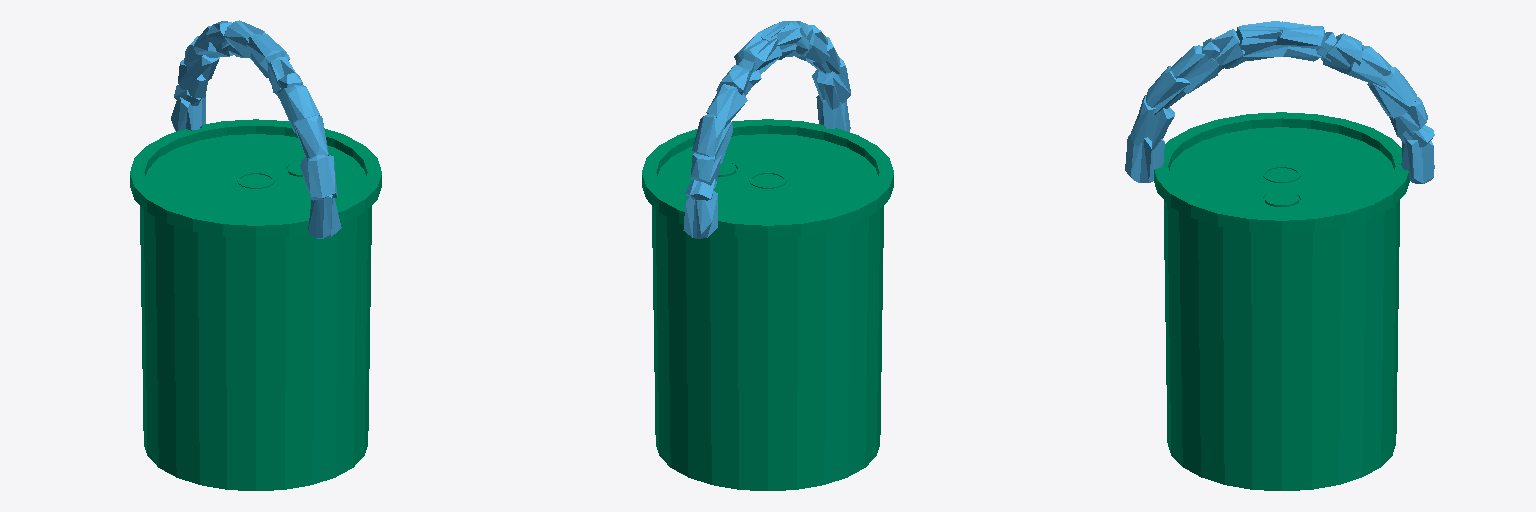
URDF robot description (partnet_514006346ba5ecca11ff520b92ac7b90):
<?xml version="1.0" ?><robot name="partnet_514006346ba5ecca11ff520b92ac7b90">
	<link name="base"/>
	<link name="link_0">
		<visual>
			<origin xyz="0 -0.479723810553553 0.009930455033136259"/>
			<geometry>
				<mesh filename="new_objs/100446_link_0_10.obj"/>
			</geometry>
		</visual>
	<visual>
			<origin xyz="0 -0.479723810553553 0.009930455033136259"/>
			<geometry>
				<mesh filename="new_objs/100446_link_0_9.obj"/>
			</geometry>
		</visual>
	<visual>
			<origin xyz="0 -0.479723810553553 0.009930455033136259"/>
			<geometry>
				<mesh filename="new_objs/100446_link_0_4.obj"/>
			</geometry>
		</visual>
	<visual>
			<origin xyz="0 -0.479723810553553 0.009930455033136259"/>
			<geometry>
				<mesh filename="new_objs/100446_link_0_11.obj"/>
			</geometry>
		</visual>
	<visual>
			<origin xyz="0 -0.479723810553553 0.009930455033136259"/>
			<geometry>
				<mesh filename="new_objs/100446_link_0_14.obj"/>
			</geometry>
		</visual>
	<visual>
			<origin xyz="0 -0.479723810553553 0.009930455033136259"/>
			<geometry>
				<mesh filename="new_objs/100446_link_0_13.obj"/>
			</geometry>
		</visual>
	<visual>
			<origin xyz="0 -0.479723810553553 0.009930455033136259"/>
			<geometry>
				<mesh filename="new_objs/100446_link_0_2.obj"/>
			</geometry>
		</visual>
	<visual>
			<origin xyz="0 -0.479723810553553 0.009930455033136259"/>
			<geometry>
				<mesh filename="new_objs/100446_link_0_3.obj"/>
			</geometry>
		</visual>
	<visual>
			<origin xyz="0 -0.479723810553553 0.009930455033136259"/>
			<geometry>
				<mesh filename="new_objs/100446_link_0_8.obj"/>
			</geometry>
		</visual>
	<visual>
			<origin xyz="0 -0.479723810553553 0.009930455033136259"/>
			<geometry>
				<mesh filename="new_objs/100446_link_0_1.obj"/>
			</geometry>
		</visual>
	<visual>
			<origin xyz="0 -0.479723810553553 0.009930455033136259"/>
			<geometry>
				<mesh filename="new_objs/100446_link_0_5.obj"/>
			</geometry>
		</visual>
	<visual>
			<origin xyz="0 -0.479723810553553 0.009930455033136259"/>
			<geometry>
				<mesh filename="new_objs/100446_link_0_6.obj"/>
			</geometry>
		</visual>
	<visual>
			<origin xyz="0 -0.479723810553553 0.009930455033136259"/>
			<geometry>
				<mesh filename="new_objs/100446_link_0_12.obj"/>
			</geometry>
		</visual>
	<visual>
			<origin xyz="0 -0.479723810553553 0.009930455033136259"/>
			<geometry>
				<mesh filename="new_objs/100446_link_0_0.obj"/>
			</geometry>
		</visual>
	<visual>
			<origin xyz="0 -0.479723810553553 0.009930455033136259"/>
			<geometry>
				<mesh filename="new_objs/100446_link_0_7.obj"/>
			</geometry>
		</visual>
	
		<collision>
			<origin xyz="0 -0.479723810553553 0.009930455033136259"/>
			<geometry>
				<mesh filename="new_objs/100446_link_0_10.obj"/>
			</geometry>
		</collision><collision>
			<origin xyz="0 -0.479723810553553 0.009930455033136259"/>
			<geometry>
				<mesh filename="new_objs/100446_link_0_9.obj"/>
			</geometry>
		</collision><collision>
			<origin xyz="0 -0.479723810553553 0.009930455033136259"/>
			<geometry>
				<mesh filename="new_objs/100446_link_0_4.obj"/>
			</geometry>
		</collision><collision>
			<origin xyz="0 -0.479723810553553 0.009930455033136259"/>
			<geometry>
				<mesh filename="new_objs/100446_link_0_11.obj"/>
			</geometry>
		</collision><collision>
			<origin xyz="0 -0.479723810553553 0.009930455033136259"/>
			<geometry>
				<mesh filename="new_objs/100446_link_0_14.obj"/>
			</geometry>
		</collision><collision>
			<origin xyz="0 -0.479723810553553 0.009930455033136259"/>
			<geometry>
				<mesh filename="new_objs/100446_link_0_13.obj"/>
			</geometry>
		</collision><collision>
			<origin xyz="0 -0.479723810553553 0.009930455033136259"/>
			<geometry>
				<mesh filename="new_objs/100446_link_0_2.obj"/>
			</geometry>
		</collision><collision>
			<origin xyz="0 -0.479723810553553 0.009930455033136259"/>
			<geometry>
				<mesh filename="new_objs/100446_link_0_3.obj"/>
			</geometry>
		</collision><collision>
			<origin xyz="0 -0.479723810553553 0.009930455033136259"/>
			<geometry>
				<mesh filename="new_objs/100446_link_0_8.obj"/>
			</geometry>
		</collision><collision>
			<origin xyz="0 -0.479723810553553 0.009930455033136259"/>
			<geometry>
				<mesh filename="new_objs/100446_link_0_1.obj"/>
			</geometry>
		</collision><collision>
			<origin xyz="0 -0.479723810553553 0.009930455033136259"/>
			<geometry>
				<mesh filename="new_objs/100446_link_0_5.obj"/>
			</geometry>
		</collision><collision>
			<origin xyz="0 -0.479723810553553 0.009930455033136259"/>
			<geometry>
				<mesh filename="new_objs/100446_link_0_6.obj"/>
			</geometry>
		</collision><collision>
			<origin xyz="0 -0.479723810553553 0.009930455033136259"/>
			<geometry>
				<mesh filename="new_objs/100446_link_0_12.obj"/>
			</geometry>
		</collision><collision>
			<origin xyz="0 -0.479723810553553 0.009930455033136259"/>
			<geometry>
				<mesh filename="new_objs/100446_link_0_0.obj"/>
			</geometry>
		</collision><collision>
			<origin xyz="0 -0.479723810553553 0.009930455033136259"/>
			<geometry>
				<mesh filename="new_objs/100446_link_0_7.obj"/>
			</geometry>
		</collision></link>
	<joint name="joint_0" type="revolute">
		<origin xyz="0 0.479723810553553 -0.009930455033136259"/>
		<axis xyz="-1 0 0"/>
		<child link="link_0"/>
		<parent link="link_1"/>
		<limit lower="-1.533" upper="2.2179644134343937"/>
	</joint>
	<link name="link_1">
		<collision>
			<origin xyz="0 0 0"/>
			<geometry>
				<mesh filename="new_objs/100446_link_1_4.obj"/>
			</geometry>
		</collision>
	<collision>
			<origin xyz="0 0 0"/>
			<geometry>
				<mesh filename="new_objs/100446_link_1_3.obj"/>
			</geometry>
		</collision>
	<collision>
			<origin xyz="0 0 0"/>
			<geometry>
				<mesh filename="new_objs/100446_link_1_0.obj"/>
			</geometry>
		</collision>
	<collision>
			<origin xyz="0 0 0"/>
			<geometry>
				<mesh filename="new_objs/100446_link_1_1.obj"/>
			</geometry>
		</collision>
	<collision>
			<origin xyz="0 0 0"/>
			<geometry>
				<mesh filename="new_objs/100446_link_1_2.obj"/>
			</geometry>
		</collision>
	<visual name="base_body-part[&quot;id]">
			<origin xyz="0 0 0"/>
			<geometry>
				<mesh filename="textured_objs/original-1.obj"/>
			</geometry>
		</visual>
		</link>
	<joint name="joint_1" type="fixed">
		<origin rpy="1.570796326794897 0 -1.570796326794897" xyz="0 0 0"/>
		<child link="link_1"/>
		<parent link="base"/>
	</joint>
</robot>

--- What the picture shows (computed from the rendered views, not written in the file) ---
3 views of the same robot in one strip: view 1: azimuth 30°, elevation 25°; view 2: azimuth 150°, elevation 25°; view 3: azimuth 270°, elevation 25° (orthographic).
Robot: partnet_514006346ba5ecca11ff520b92ac7b90 — 3 links, 2 joints (1 revolute, 1 fixed); root link base; default pose: every joint at zero.
Visible links, largest first — view 1: link_1, link_0; view 2: link_1, link_0; view 3: link_1, link_0.
Link boxes in pixels (box(x1,y1,x2,y2)): link_1: box(130, 119, 381, 490); link_0: box(171, 20, 341, 238); link_1: box(642, 119, 893, 490); link_0: box(683, 21, 850, 238); link_1: box(1154, 112, 1409, 490); link_0: box(1125, 21, 1434, 183).
Size in the robot's own frame: 0.9048 by 1.09 by 1.63 metres.
16 mesh visuals loaded from 16 distinct referenced files (16 OBJ).
